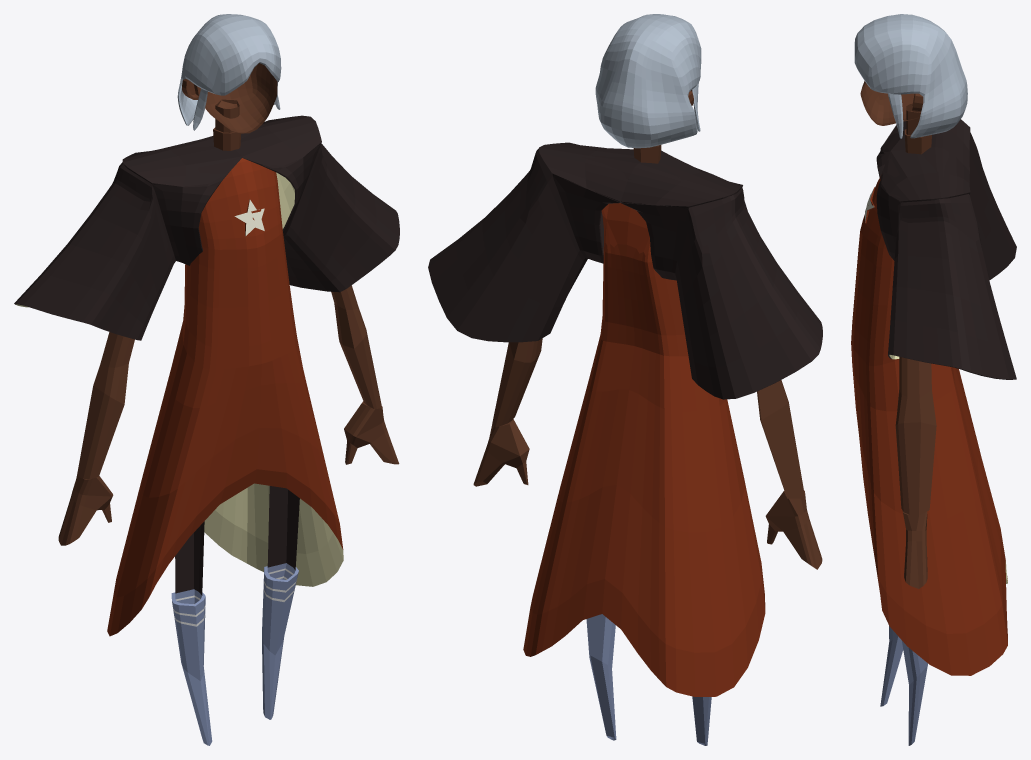
Rendered from yürüme - 2. ayak - 1 ve 3. adım.fbx.
3 renders of one model, left to right at view 1: azimuth 30°, elevation 25°; view 2: azimuth 150°, elevation 25°; view 3: azimuth 270°, elevation 25°, orthographic. The views are drawn at different scales.
Parts seen in each view (by area): view 1: Circle, Cylinder.002, Cube.004, Cube.003, Cylinder.004, Cylinder, Cube.001, Cylinder.003; view 2: Circle, Cylinder.002, Cube.003, Cube.004, Cylinder.004, Cylinder; view 3: Circle, Cylinder.002, Cube.003, Cube.004, Cylinder.004, Cube.001, Cylinder, Cylinder.003.
Part boxes in pixels (x1,y1,x2,y2): Circle: (107,158,343,636); Cylinder.002: (14,115,399,340); Cube.004: (58,285,399,545); Cube.003: (177,14,281,130); Cylinder.004: (262,486,299,719); Cylinder: (171,521,212,745); Cube.001: (198,63,277,133); Cylinder.003: (213,99,240,150); Circle: (523,203,765,696); Cylinder.002: (428,142,822,399); Cube.003: (595,14,701,148); Cube.004: (473,338,822,569); Cylinder.004: (586,614,616,740); Cylinder: (692,696,711,745); Circle: (851,174,1007,675); Cylinder.002: (876,119,1016,379); Cube.003: (854,14,967,138); Cube.004: (895,357,936,588); Cylinder.004: (902,641,927,745); Cube.001: (860,81,920,125); Cylinder: (880,626,903,706); Cylinder.003: (904,103,931,154).
Bounding box in the file's own units: 235 × 420 × 89.29.
